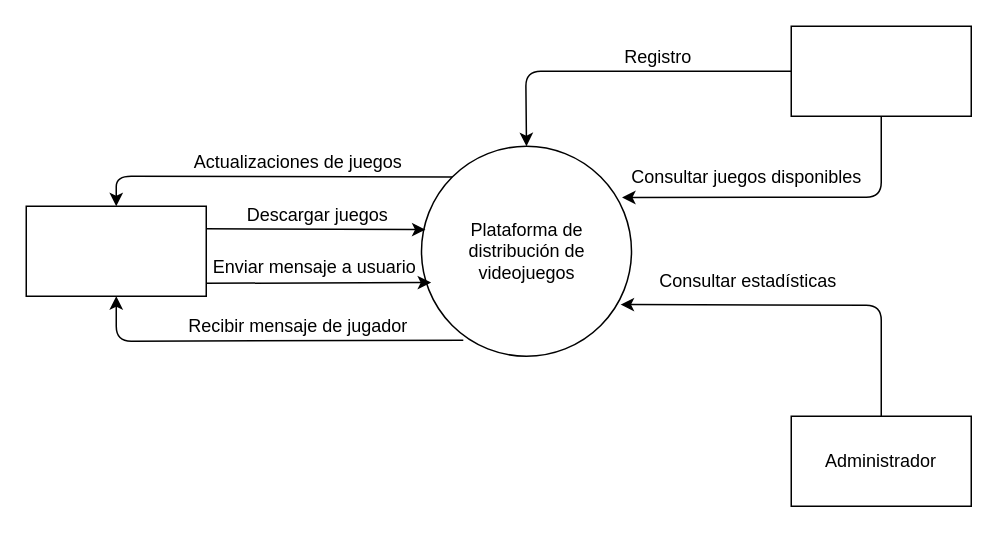
Image size: 998x533. Some labels were removed from this diagram. Here are the shapes that lost their labels. From the top down, the centre of each, then its label:
the point at 880,70: Usuario sin registrar
the point at 115,250: Usuario registrado
